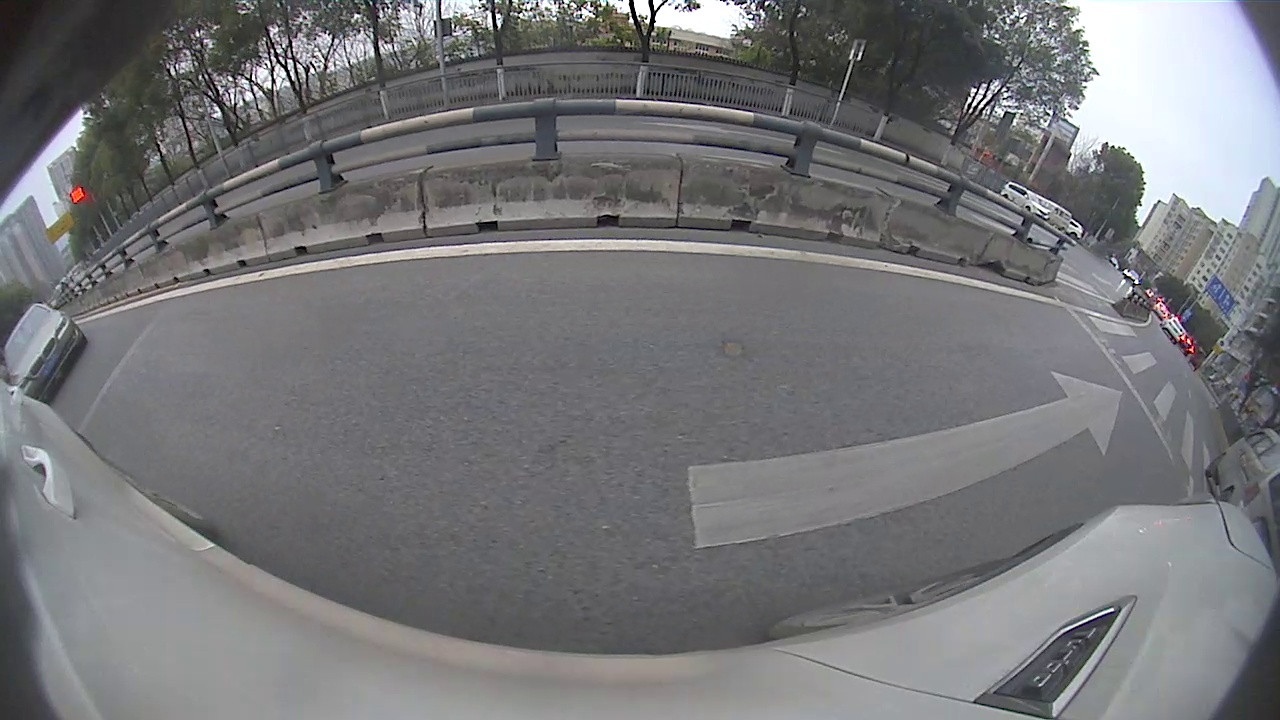car: (1, 300, 89, 406)
